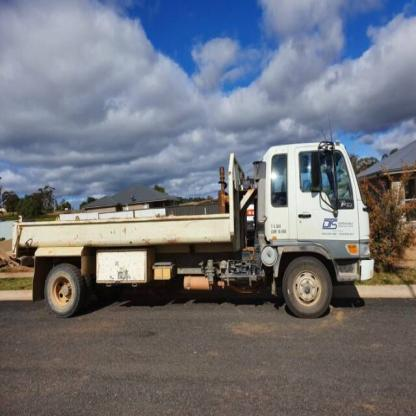dump_truck: (14, 137, 379, 328)
